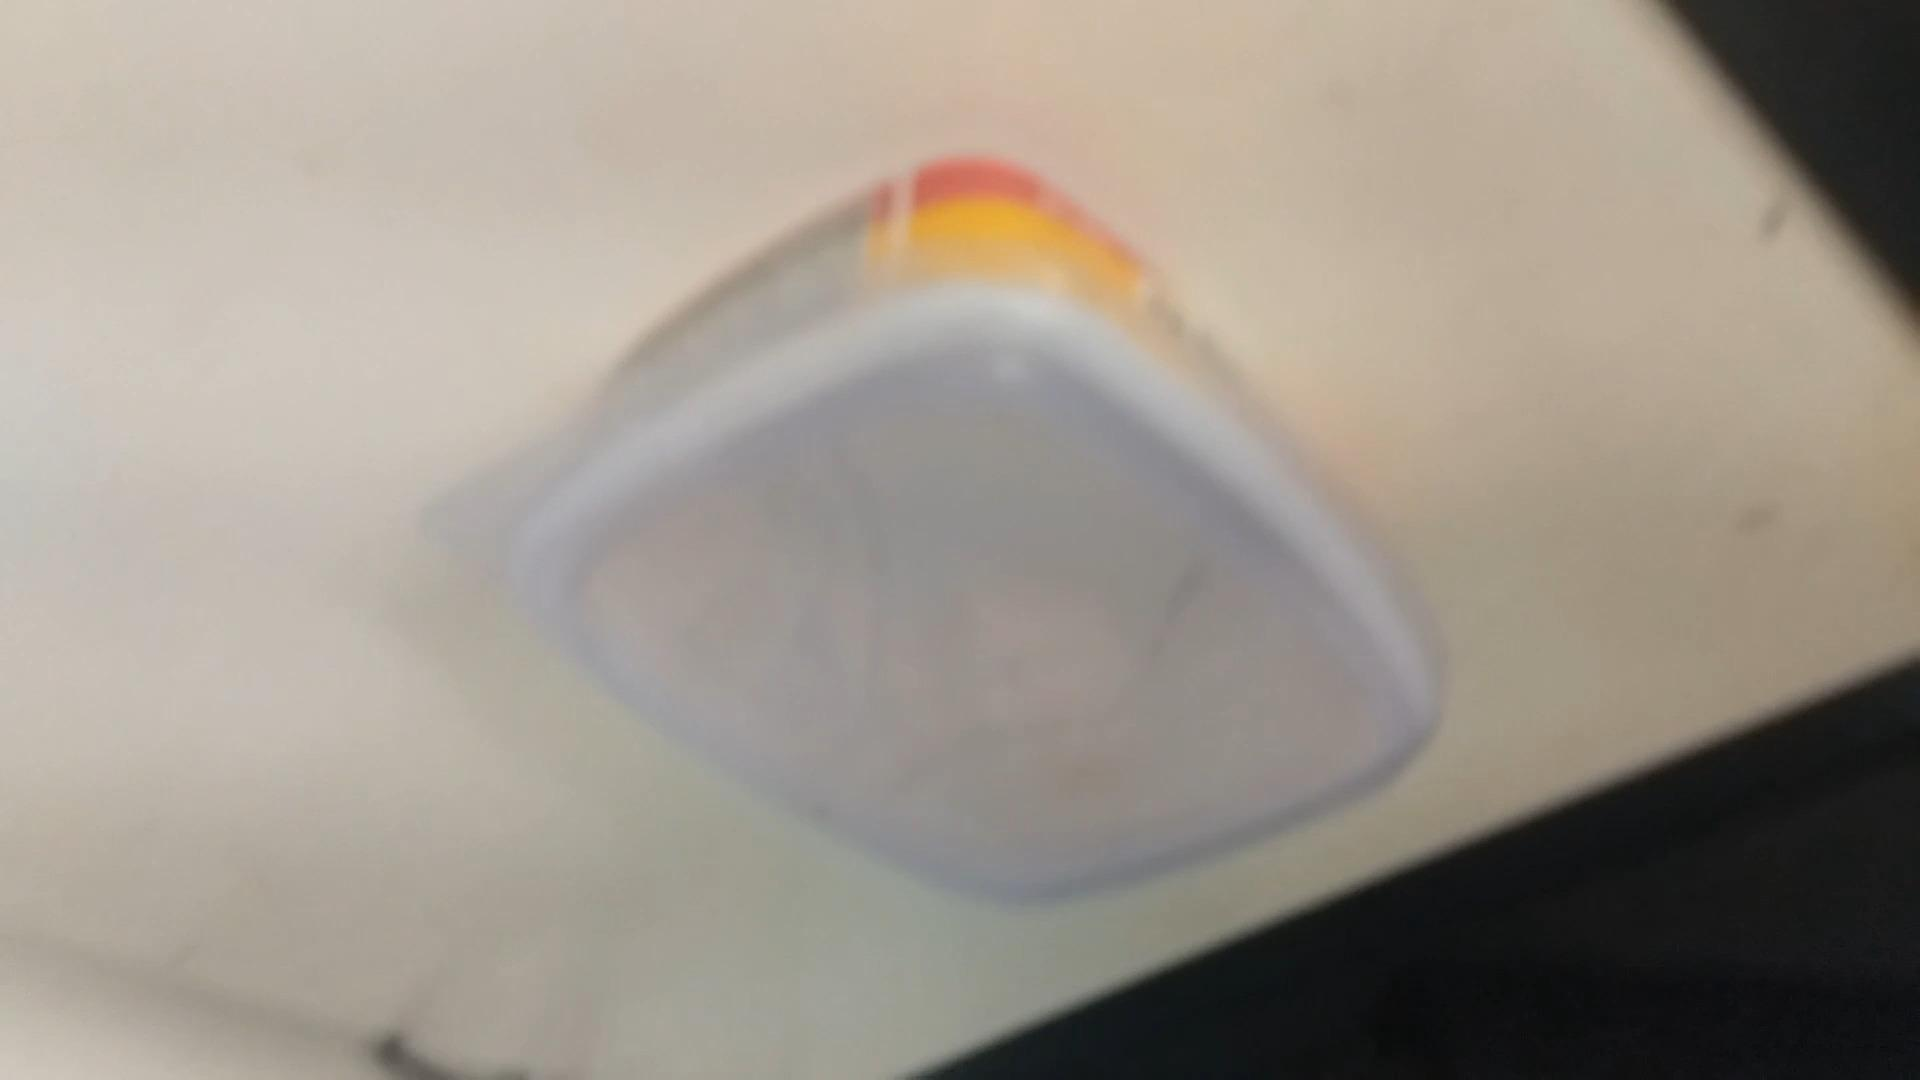butter: (467, 167, 1445, 915)
